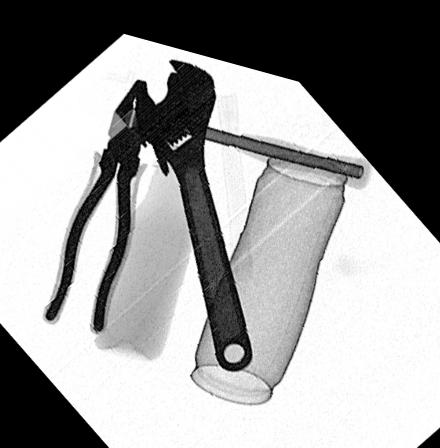Hammer: (143, 75, 364, 171)
Pliers: (40, 68, 151, 328)
Wrench: (121, 51, 251, 359)
